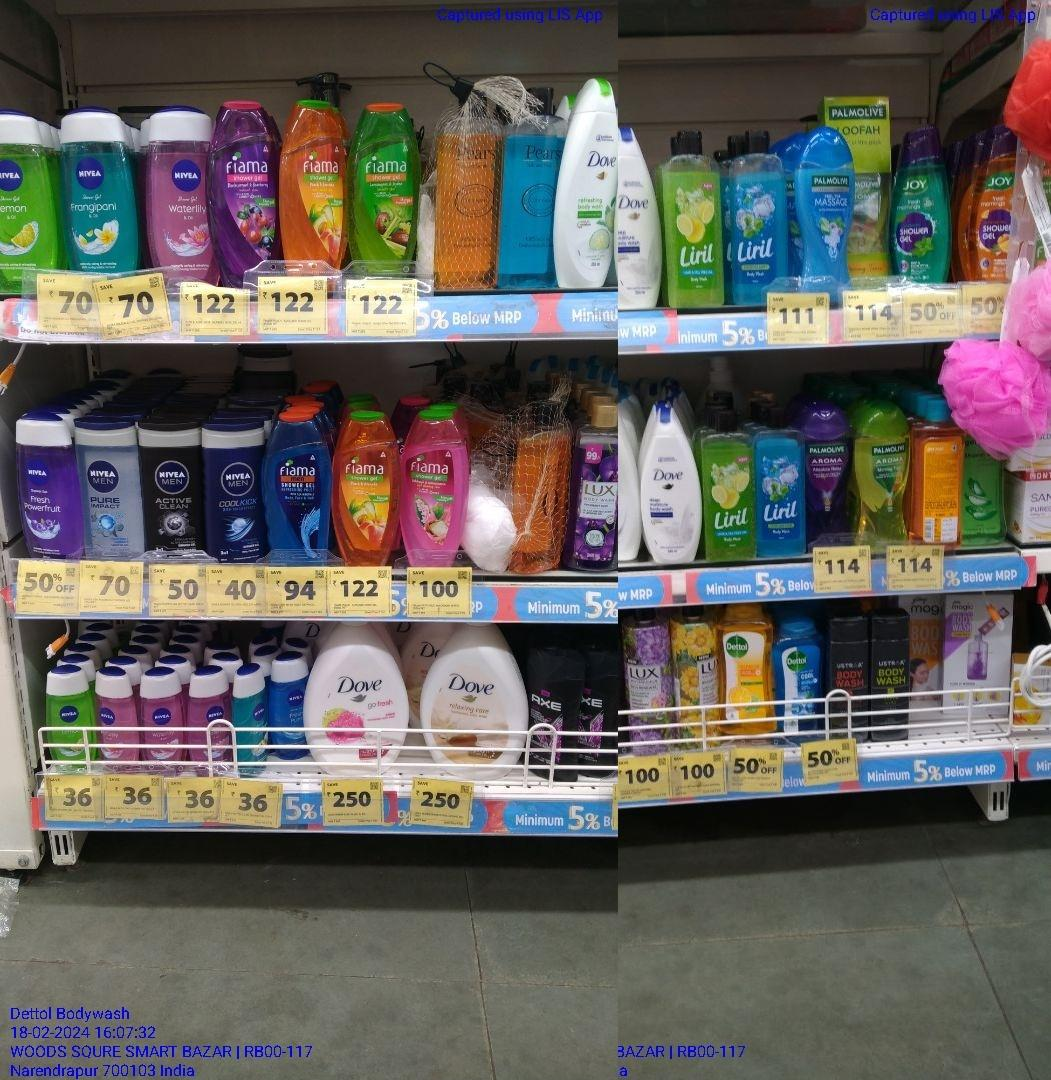Dettol_Bodywash_Cool: (776, 619, 823, 739)
Dettol_Bodywash_Refresh: (719, 605, 775, 737)
Dove_Deep_Moisture_Body_Wash_250ML: (645, 405, 698, 570)
Dove_Gentle_Exfoliating_Body_Wash_250ML: (620, 126, 663, 309)
Dove_Refreshing_Body_Wash_250ML: (562, 80, 617, 287)
Fiama_Shower_Gel_Lemongrass_and_Jojoba_250ML: (345, 101, 412, 276)
Fiama_Shower_Gel_Patchouli_and_Macadamia_250ML: (402, 409, 463, 566)
Fiama_Shower_Gel_Peach_and_Avocado_250ML: (331, 407, 401, 566), (277, 98, 342, 265)
Joy_Shower_Gel_Mandarin_and_Lemongrass_250ML: (969, 130, 1013, 288)
Joy_Shower_Gel_Mint_and_Eucalyptus_250ML: (892, 126, 948, 280)
Liril_Cooling_Mint_Body_Wash_250ML: (728, 131, 786, 302), (757, 405, 809, 561)
Liril_Lime_and_Tea_Tree_Oil_Body_Wash_250ML: (667, 126, 725, 303), (700, 410, 755, 566)
Lux_Black_Orchid_Scent_and_Juniper_Oil_Body_Wash_245ML: (573, 402, 615, 573)
Nivea_Shower_Gel_Frangipani_and_Oil_250ML: (64, 105, 135, 275)
Nivea_Shower_Gel_Fresh_Powerfruit_250ML: (15, 415, 82, 564)
Nivea_Shower_Gel_Lemon_and_Oil_250ML: (0, 109, 63, 293)
Nivea_Shower_Gel_Waterlily_and_Oil_250ML: (144, 101, 209, 281)
Palmolive_Aroma_Moments_Feel_The_Massage_Shower_Gel_250ML: (793, 129, 853, 296)
Palmolive_Aroma_Morning_Tonic_Shower_Gel_250ML: (858, 405, 907, 544)
Palmolive_Aroma_Relax_250ML: (810, 400, 854, 548)
Pears_Pure_Glycerin_and_Mint_Extracts_Body_Wash_250ML: (499, 88, 555, 297)
